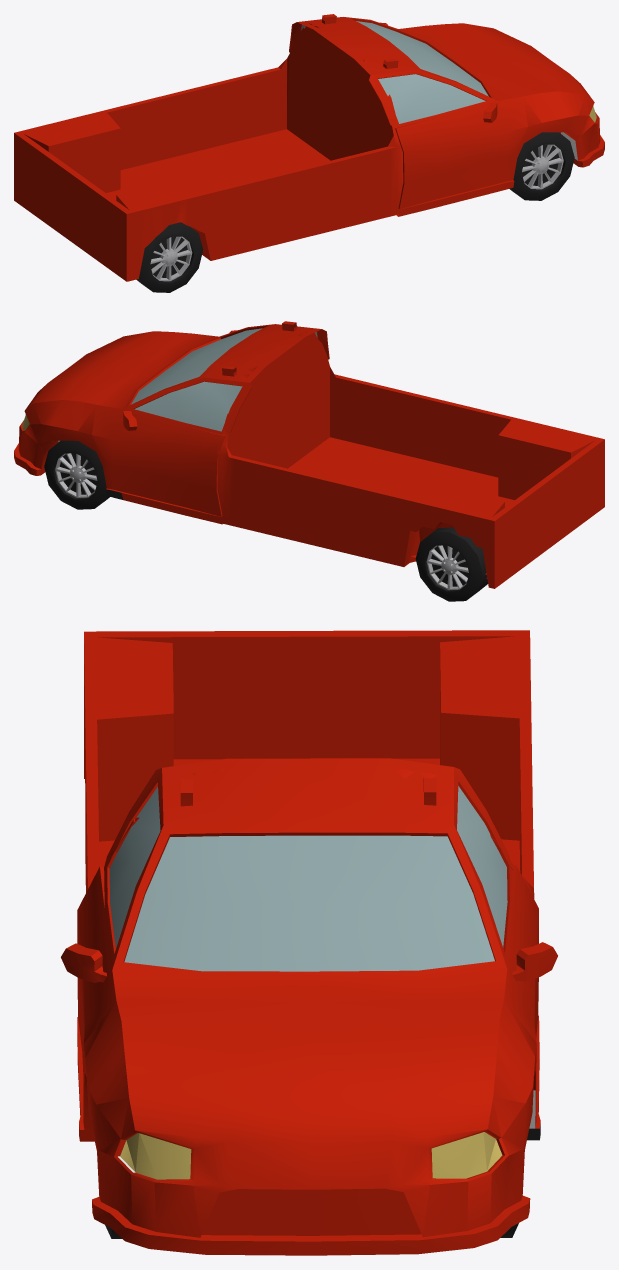
Rendered from pickup.glb.
3 views of the same model, one above another, from view 1: azimuth 30°, elevation 25°; view 2: azimuth 150°, elevation 25°; view 3: azimuth 270°, elevation 25° (orthographic). The views are drawn at different scales.
Parts seen in each view (by area): view 1: Box001, SUV_Cube001, SUV_FrontRightWheel_Cylinder_007, SUV_FrontRightWheel_Cylinder_006; view 2: Box001, SUV_Cube001, SUV_FrontLeftWheel_Cylinder_012, SUV_FrontLeftWheel_Cylinder_011; view 3: SUV_Cube001, Box001.
Boxes of the visible parts, x1,y1,x2,y2 form: Box001: (14, 23, 402, 281); SUV_Cube001: (289, 14, 604, 216); SUV_FrontRightWheel_Cylinder_007: (136, 222, 203, 292); SUV_FrontRightWheel_Cylinder_006: (509, 132, 574, 200); Box001: (216, 332, 604, 588); SUV_Cube001: (14, 321, 329, 524); SUV_FrontLeftWheel_Cylinder_012: (415, 527, 487, 601); SUV_FrontLeftWheel_Cylinder_011: (44, 440, 109, 509); SUV_Cube001: (61, 758, 557, 1255); Box001: (84, 630, 534, 901).
Bounding box in the file's own units: 5.3 × 1.61 × 2.27.
